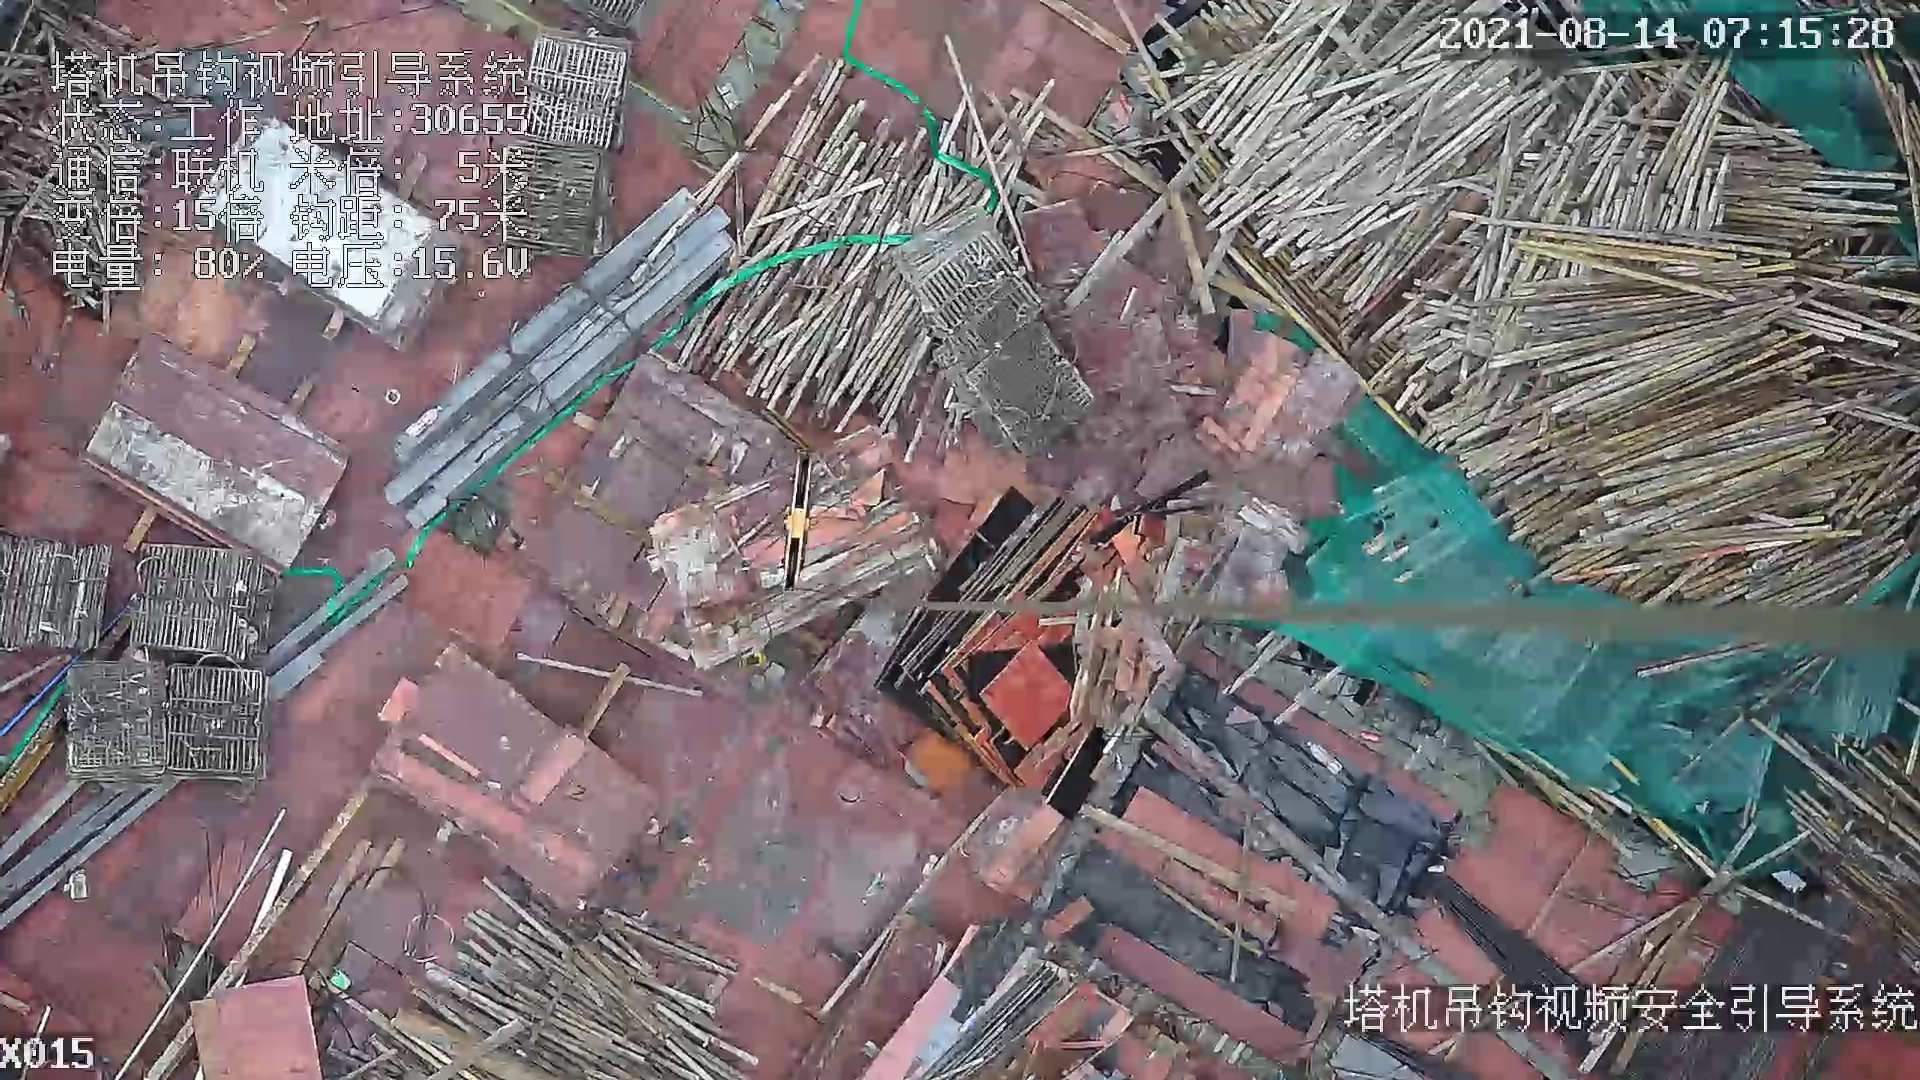hook: (773, 444, 822, 599)
